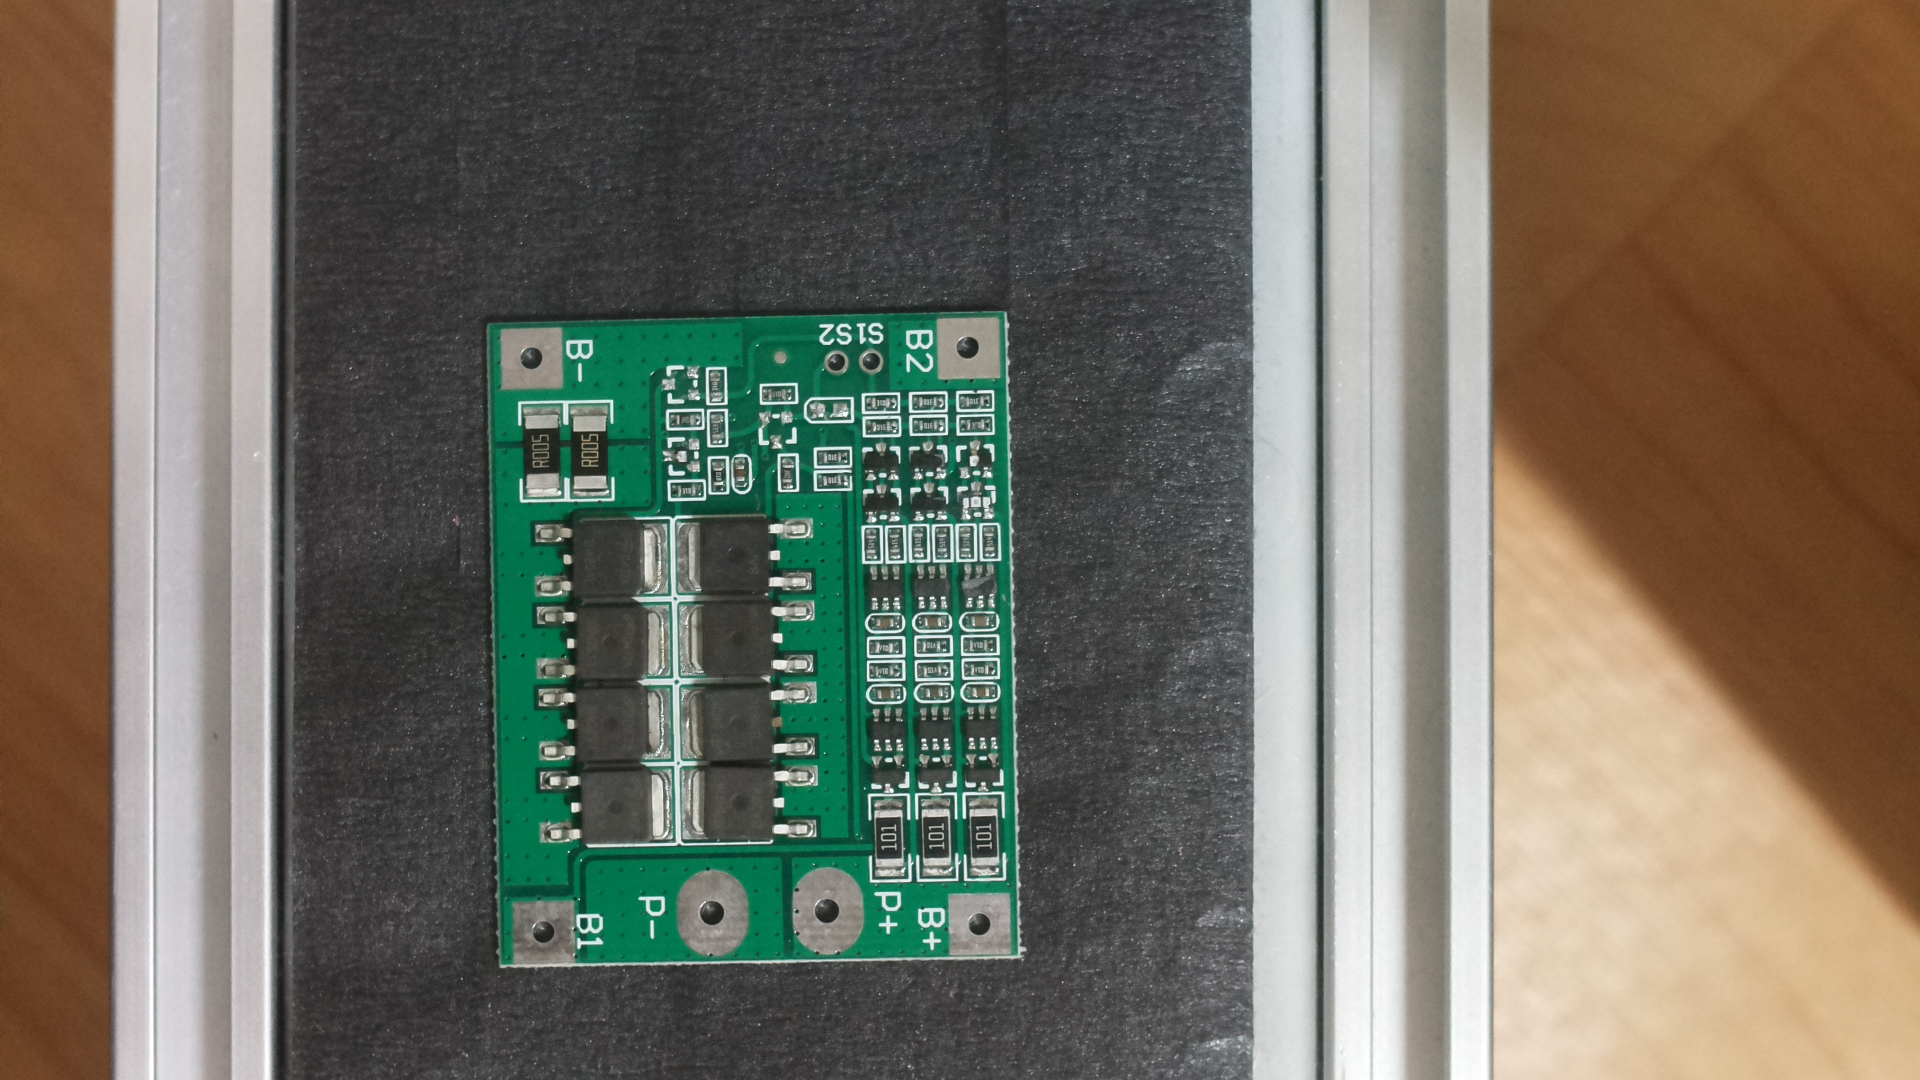C_Missing_part: (473, 301, 1036, 981)
